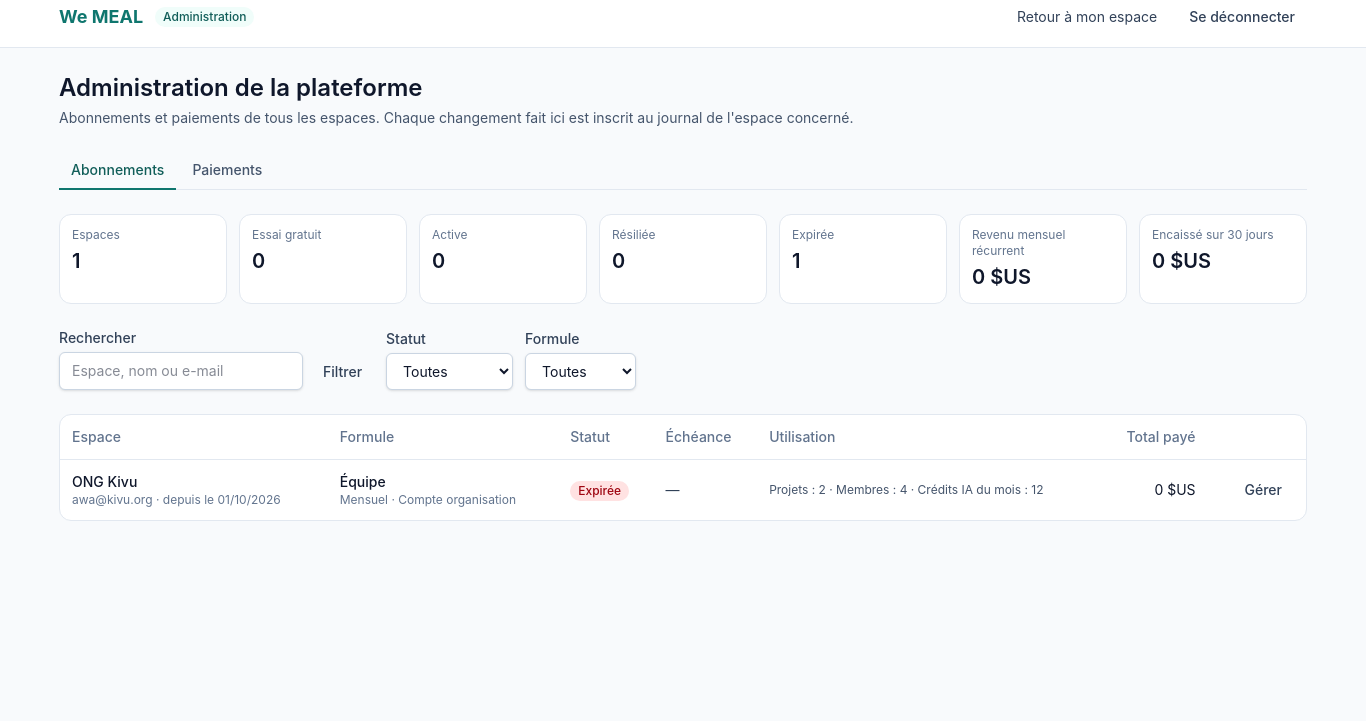
Test: liste les abonnements et modifie celui d'un espace
Expected: the heading "Administration de la plateforme" is shown, [59,73,422,102]
Expected: the text "Expirée" in the row of "ONG Kivu" is shown, [578,482,621,498]
Click the button with aria-label "Gérer l'abonnement de ONG Kivu" at {"x": 1263, "y": 490}, box [1232,472,1294,508]
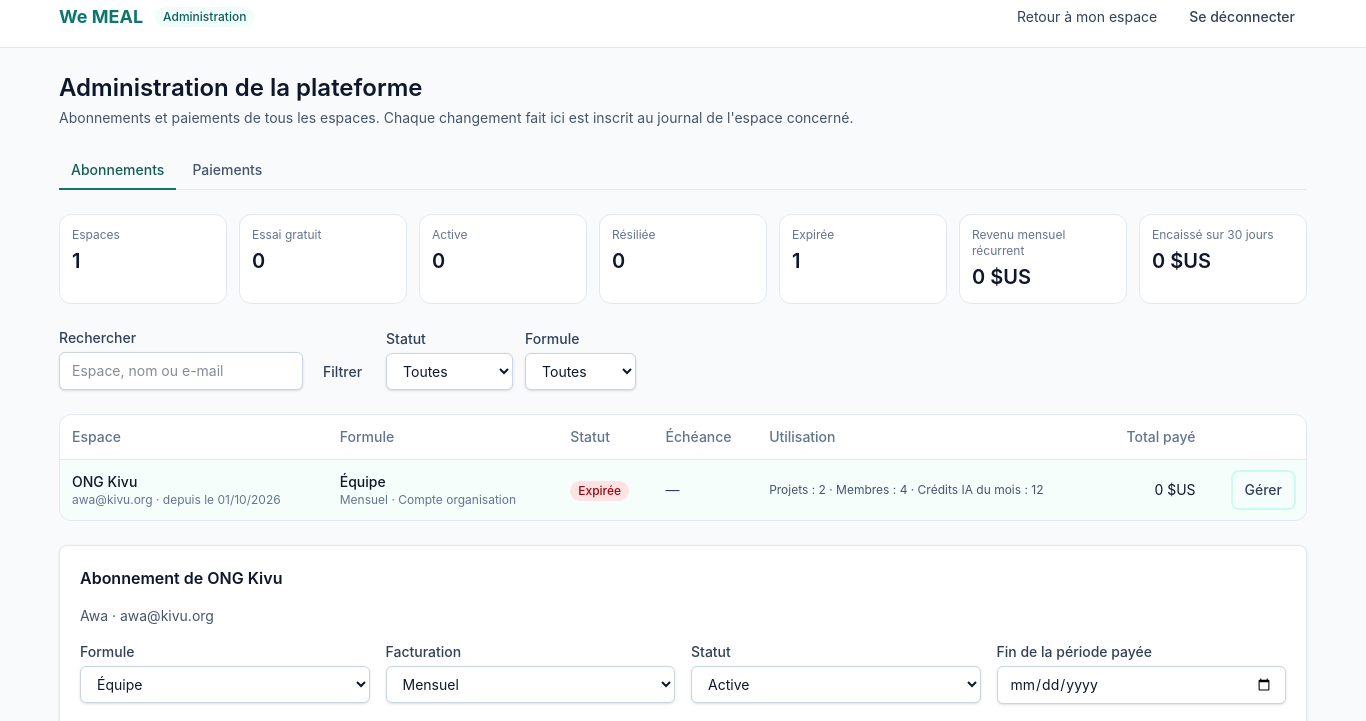
Note: Les filtres viennent en premier, puis le formulaire de l'espace choisi.
Select "Institution" in the dropdown labelled "Formule" below "Awa ·" at {"x": 225, "y": 684}, box [80,666,370,703]
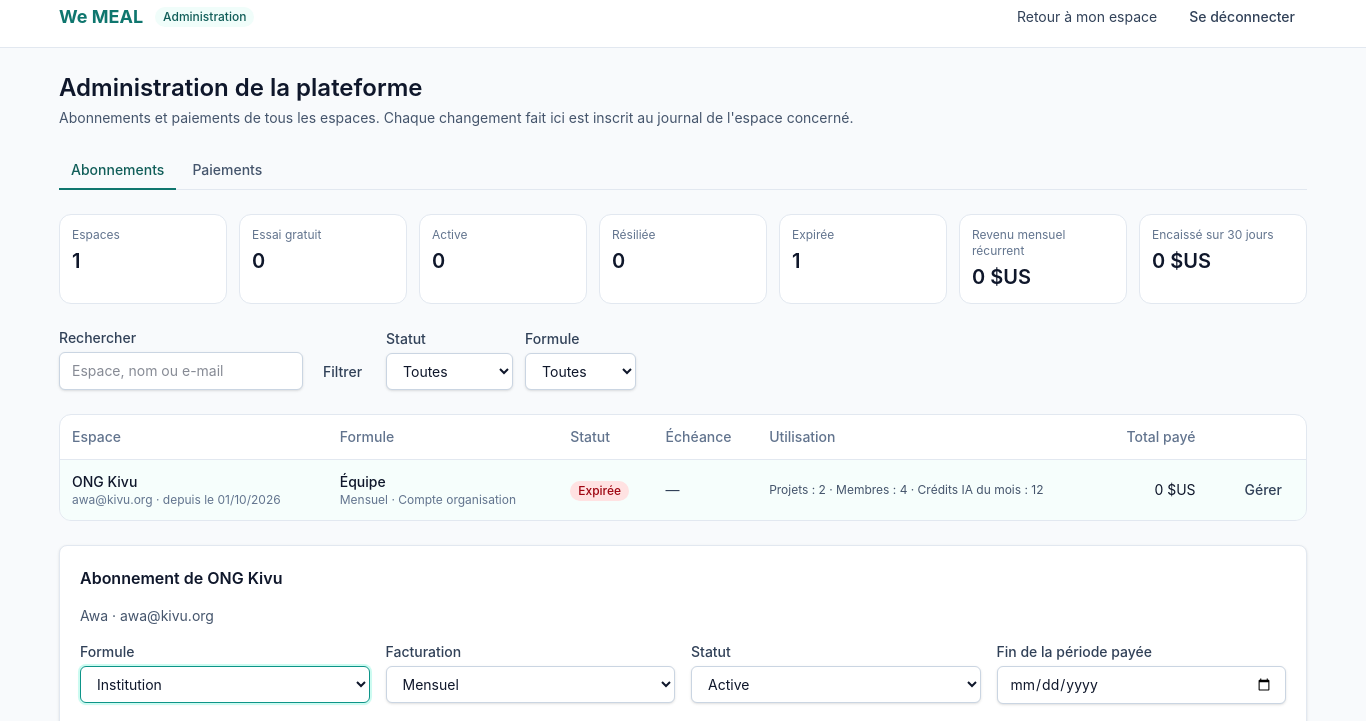
Select "Active" in the dropdown labelled "Statut" below "Fin de la période payée" at {"x": 836, "y": 684}, box [691,666,980,703]
(page scrolled)
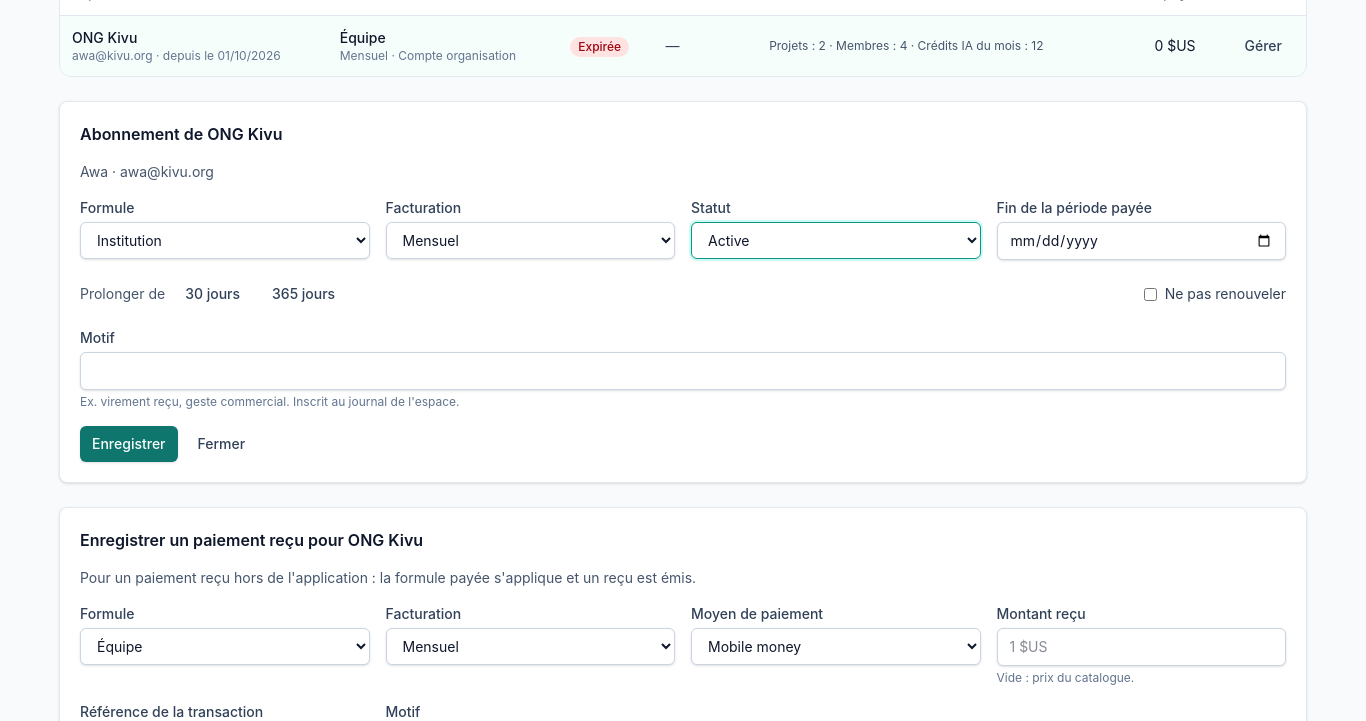
Type "Virement reçu" into the field labelled "Motif" below "Prolonger de" at {"x": 683, "y": 371}, box [80,352,1286,390]
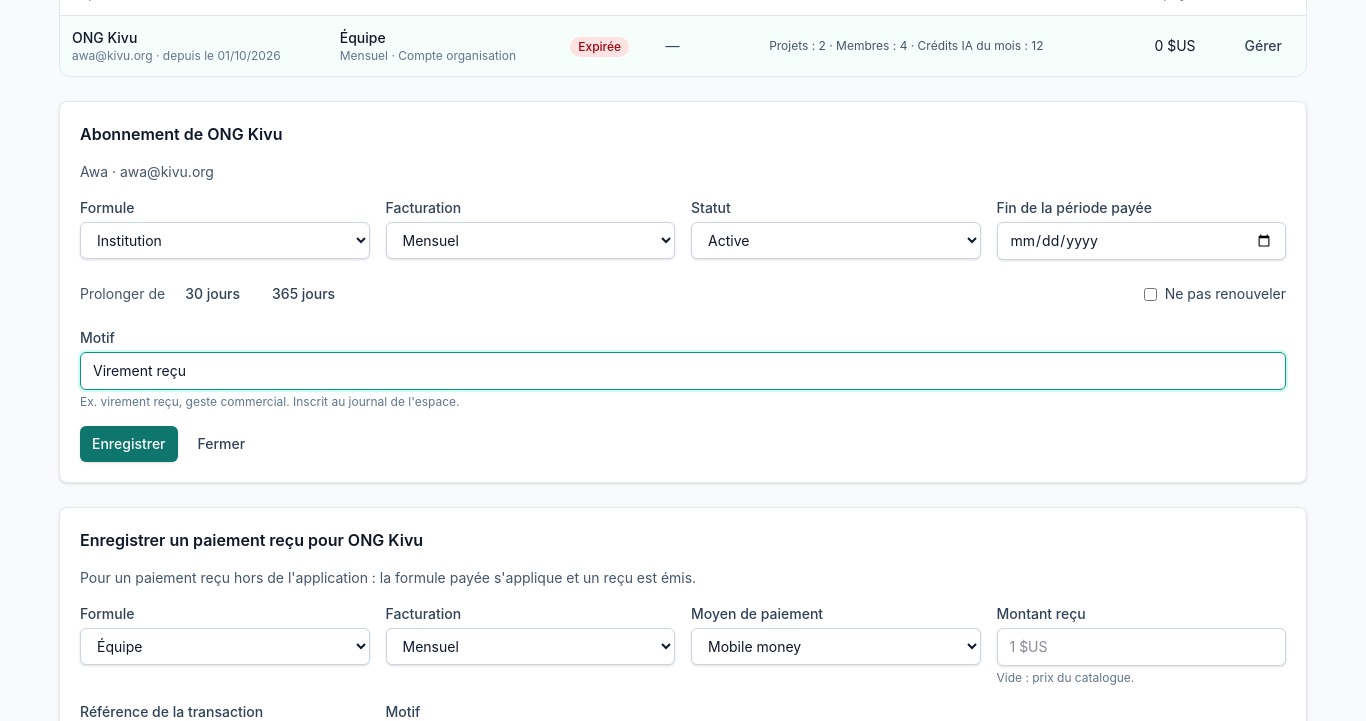
Click the button "Enregistrer" at {"x": 129, "y": 444}, box [80,426,178,462]
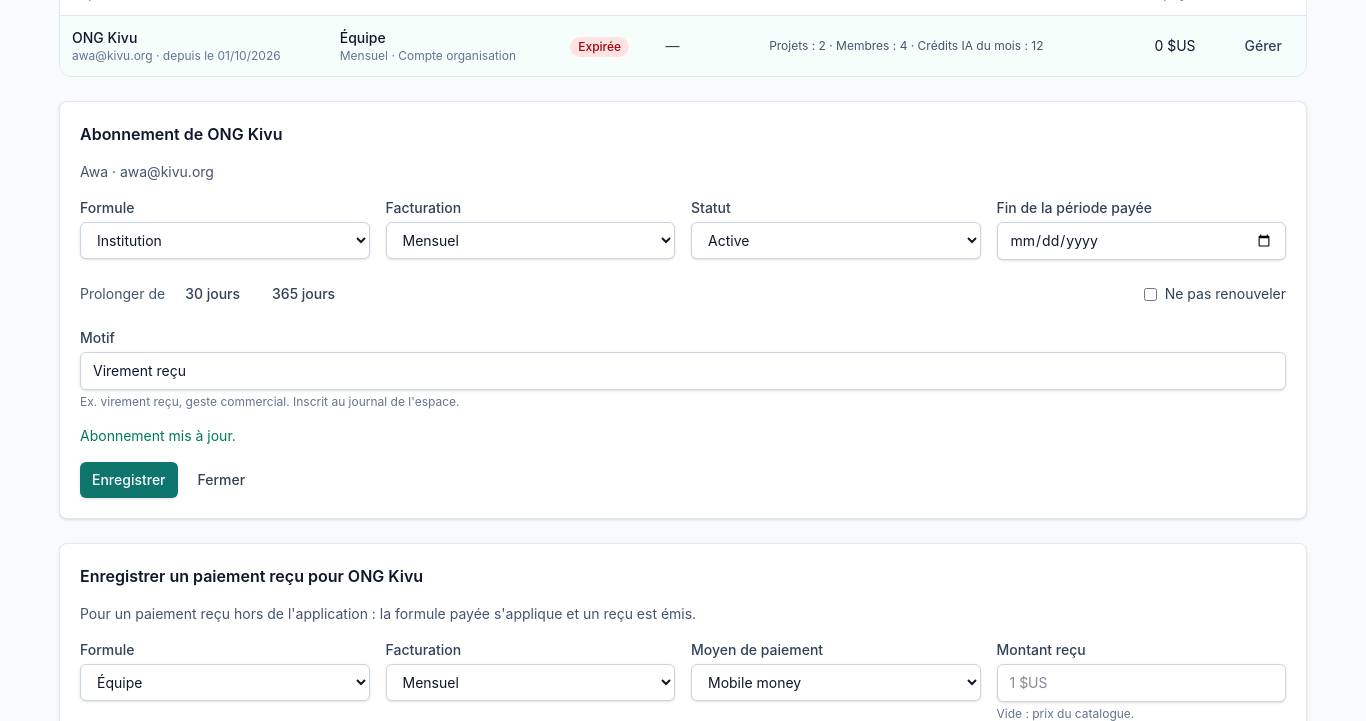
Expected: the text "Abonnement mis à jour." is shown, [80,427,236,444]
